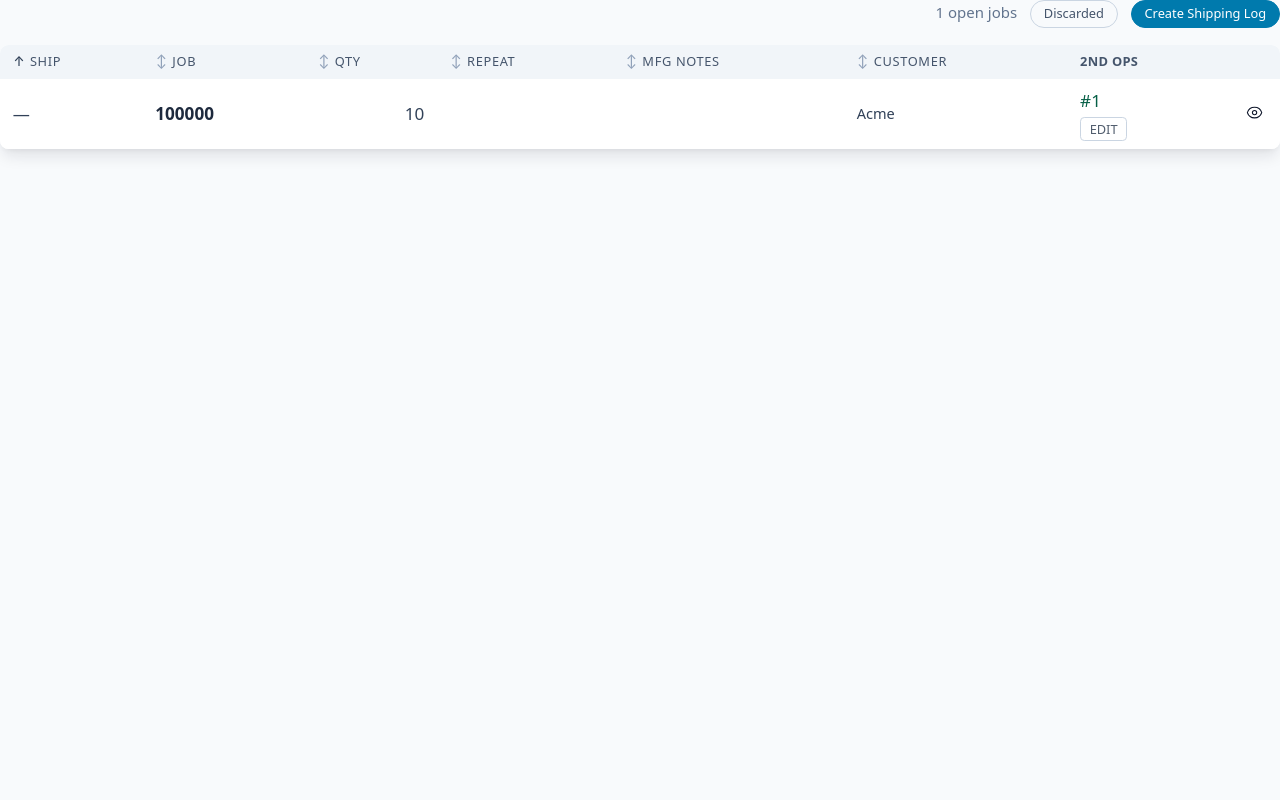
it: ShippingView — 2nd OPS column › opens the item modal from a preview line with no network request
Click the button with test id "second-ops-preview-line" at point(1090, 100), box left=1080, top=88, right=1101, bottom=113
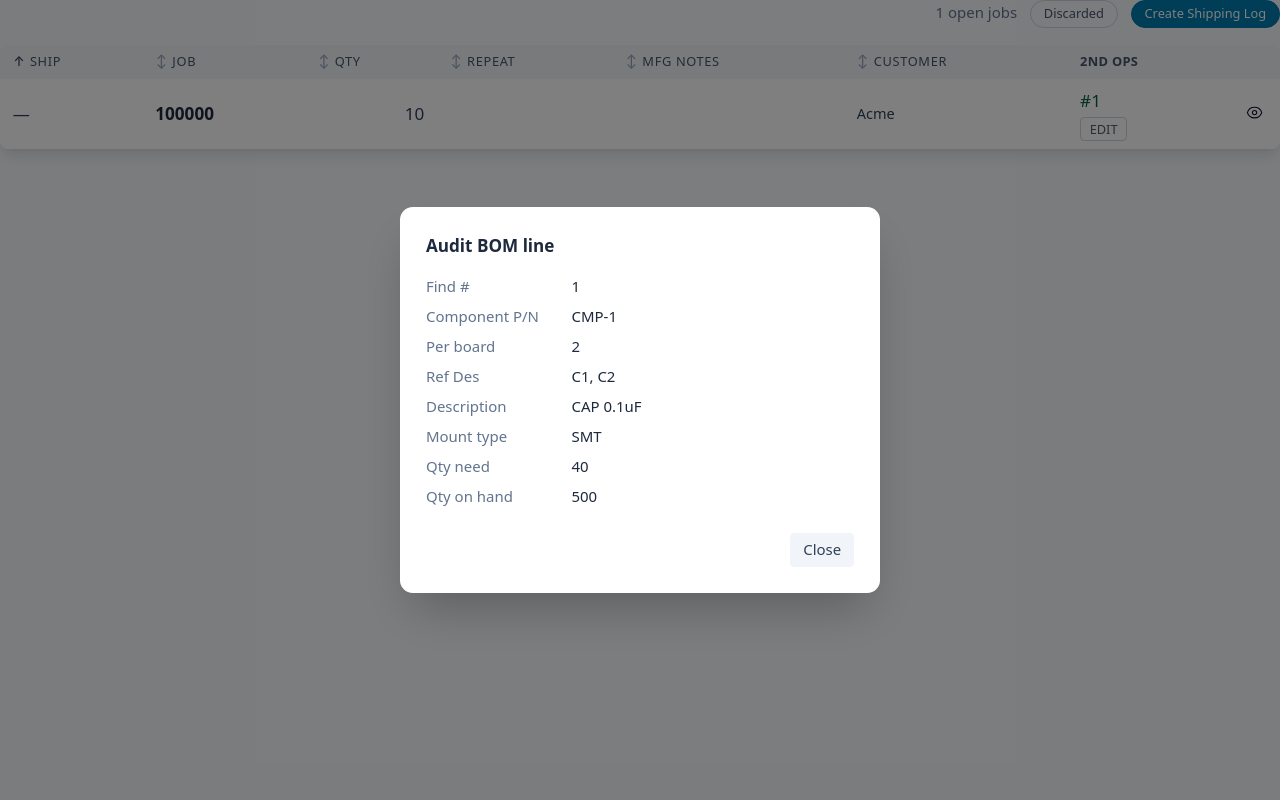
Now the element with test id "second-ops-item-modal" is shown
Now the text with test id "second-ops-item-ref_des" reads "C1, C2", box left=572, top=366, right=616, bottom=386
